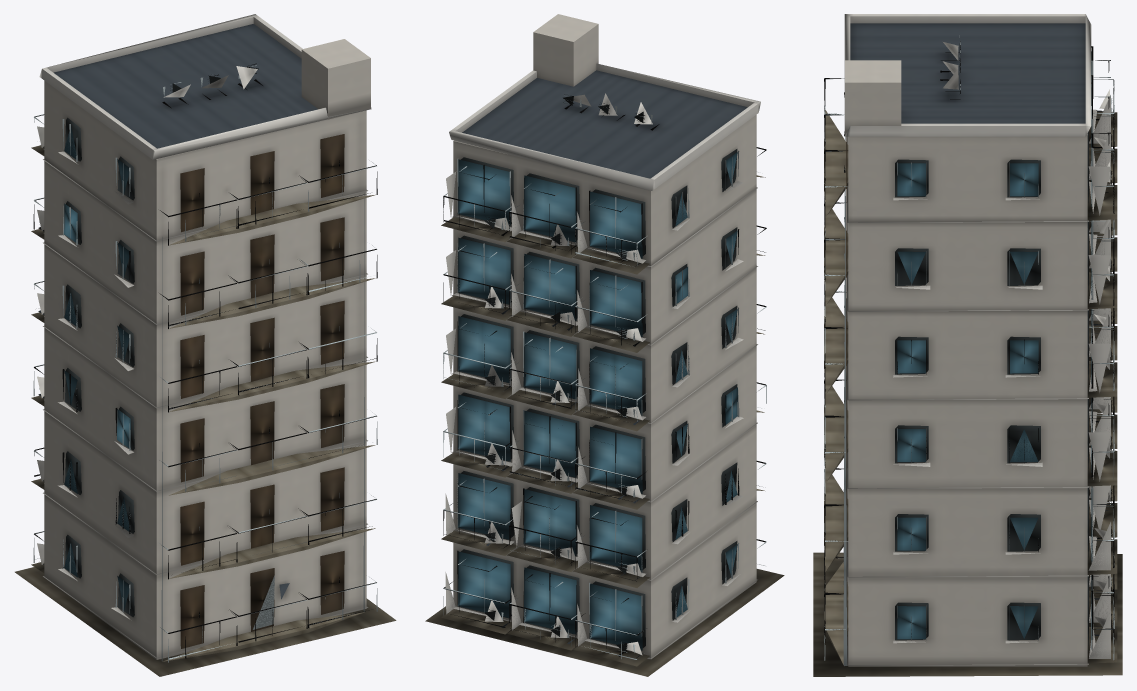
Rendered from residential_007.obj.
The picture shows the model from 3 angles, left to right: view 1: azimuth 30°, elevation 25°; view 2: azimuth 150°, elevation 25°; view 3: azimuth 270°, elevation 25°; orthographic projection. The views are drawn at different scales.
Parts seen in each view (by area): view 1: residential_007; view 2: residential_007; view 3: residential_007.
Part boxes in pixels (bbox=[...]): residential_007: bbox=[15, 14, 396, 676]; residential_007: bbox=[425, 14, 784, 676]; residential_007: bbox=[813, 14, 1122, 676].
Size of the model in its own units: 8.27 by 18.48 by 8.8.
Materials: 1 (1 with a texture image).
